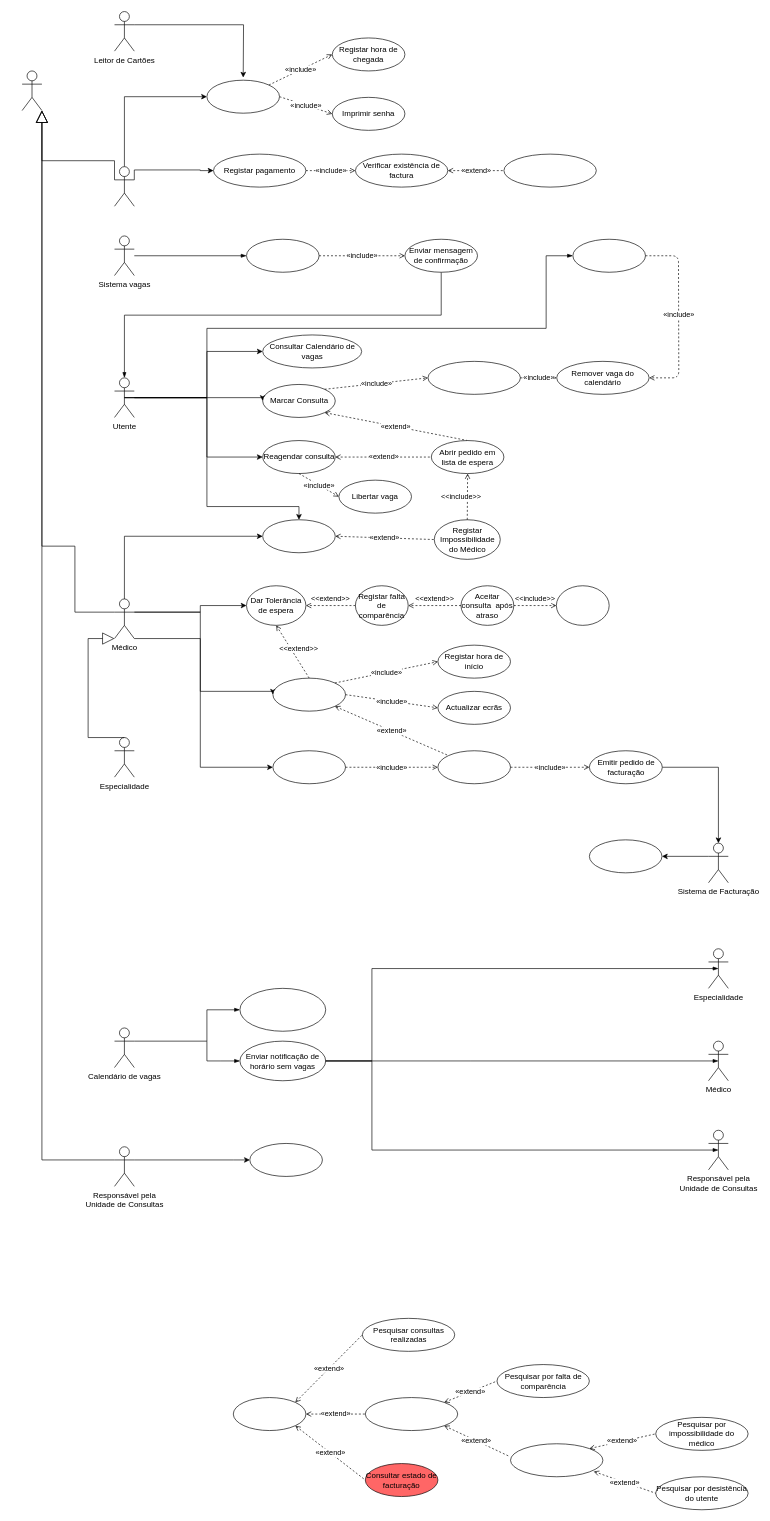
Image size: 770x1521. Some labels were removed from this diagram. Here are the shapes that lost their labels. From the top down, the centre of each, then its label:
At (x=31, y=90): "Funcionário".
At (x=243, y=96): "Registar entrada de Utente".
At (x=124, y=186): "Recepcionista".
At (x=549, y=170): "Actualizar estado de facturação".
At (x=282, y=255): "Atribuir vaga".
At (x=608, y=255): "Confirmar vaga".
At (x=473, y=377): "Registar data/hora da consulta".
At (x=298, y=536): "Desmarcar consulta".
At (x=582, y=605): "Remover Registo de Falta".
At (x=309, y=694): "Chamar Próximo Utente".
At (x=309, y=767): "Terminar consulta".
At (x=474, y=767): "Registar hora de fim".
At (x=625, y=856): "Emitir número de factura".
At (x=282, y=1009): "Preencher calendário de vagas".
At (x=285, y=1159): "Abrir horários extra".
At (x=269, y=1414): "Aceder informação de consultas".
At (x=411, y=1414): "Pesquisar consultas não realizadas".
At (x=556, y=1460): "Pesquisar consultas desmarcadas".
